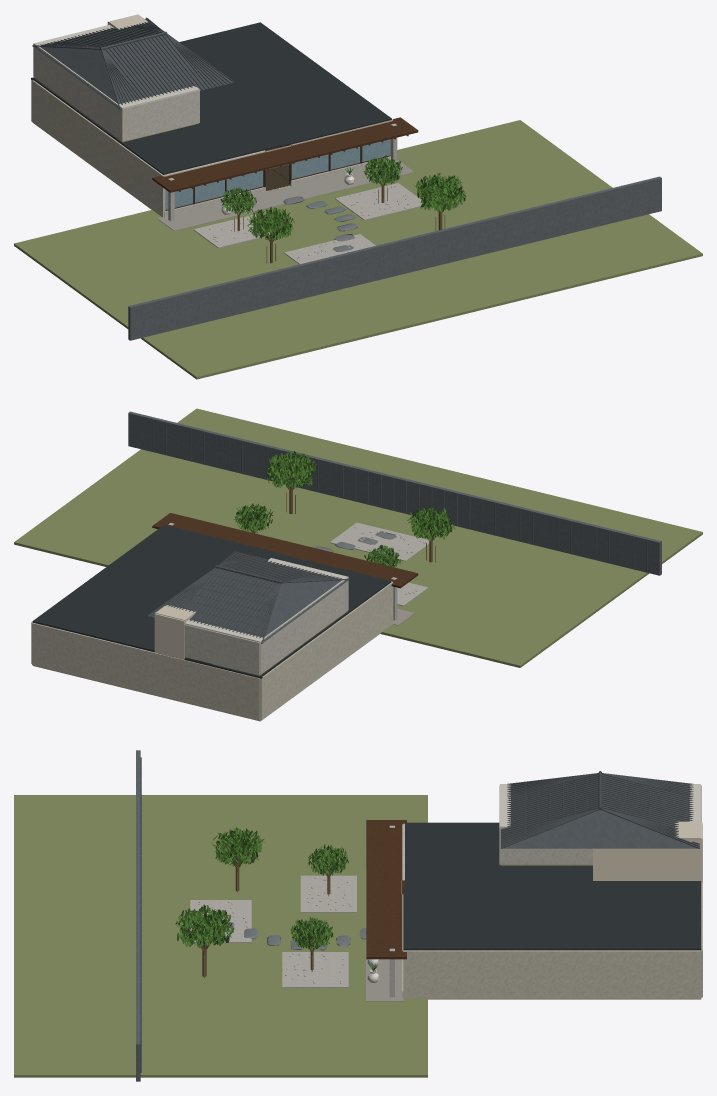
Rendered from yeongsanpo-literature.glb.
3 renders of one model, top to bottom at view 1: azimuth 30°, elevation 25°; view 2: azimuth 150°, elevation 25°; view 3: azimuth 270°, elevation 25°, orthographic. The views are drawn at different scales.
Parts seen in each view (by area): view 1: window_garden_ground, window_garden_boundary_wall, v79_batch_Museum_39382f_0_0, v79_batch_Y79_roof_24_0_0, v79_batch_Y79_plaster_0_0_0, v79_batch_Y79_plaster_26_0_0, v79_batch_Y79_wood_19_0_0, v79_batch_Y79_pavers_50_0_0, v79_layered_leaf_canopies, v79_batch_Y79_wood_18_0_0, window_garden_paved_apron, attic_white_ceiling (+3 smaller); view 2: window_garden_ground, window_garden_boundary_wall, v79_batch_Y79_plaster_0_0_0, v79_batch_Museum_39382f_0_0, v79_batch_Y79_roof_24_0_0, v79_batch_Y79_plaster_26_0_0, v79_layered_leaf_canopies, v79_batch_Y79_wood_19_0_0, v79_batch_Y79_pavers_50_0_0, v79_batch_Museum_575f50_0_0, v79_batch_Museum_ded7c0_0_0, attic_white_ceiling (+1 smaller); view 3: window_garden_ground, v79_batch_Museum_39382f_0_0, v79_batch_Y79_plaster_0_0_0, v79_batch_Y79_roof_24_0_0, v79_batch_Y79_pavers_50_0_0, v79_layered_leaf_canopies, v79_batch_Y79_wood_19_0_0, v79_batch_Museum_ded7c0_0_0, v79_batch_Y79_plaster_26_0_0, window_garden_boundary_wall, window_garden_paved_apron, attic_white_ceiling (+4 smaller).
Boxes of the visible parts, left/top/right/bottom form: window_garden_ground: left=14, top=120, right=702, bottom=379; window_garden_boundary_wall: left=128, top=176, right=661, bottom=340; v79_batch_Museum_39382f_0_0: left=31, top=22, right=391, bottom=174; v79_batch_Y79_roof_24_0_0: left=32, top=17, right=234, bottom=110; v79_batch_Y79_plaster_0_0_0: left=31, top=80, right=393, bottom=217; v79_batch_Y79_plaster_26_0_0: left=33, top=44, right=199, bottom=141; v79_batch_Y79_wood_19_0_0: left=152, top=117, right=418, bottom=210; v79_batch_Y79_pavers_50_0_0: left=193, top=183, right=425, bottom=264; v79_layered_leaf_canopies: left=220, top=155, right=466, bottom=240; v79_batch_Y79_wood_18_0_0: left=165, top=139, right=389, bottom=209; window_garden_paved_apron: left=157, top=160, right=414, bottom=230; attic_white_ceiling: left=33, top=25, right=199, bottom=109; window_garden_ground: left=14, top=408, right=702, bottom=667; window_garden_boundary_wall: left=128, top=411, right=661, bottom=575; v79_batch_Y79_plaster_0_0_0: left=31, top=582, right=393, bottom=720; v79_batch_Museum_39382f_0_0: left=32, top=525, right=391, bottom=678; v79_batch_Y79_roof_24_0_0: left=147, top=551, right=349, bottom=643; v79_batch_Y79_plaster_26_0_0: left=184, top=578, right=348, bottom=675; v79_layered_leaf_canopies: left=234, top=451, right=455, bottom=567; v79_batch_Y79_wood_19_0_0: left=152, top=513, right=418, bottom=588; v79_batch_Y79_pavers_50_0_0: left=329, top=522, right=429, bottom=606; v79_batch_Museum_575f50_0_0: left=140, top=416, right=647, bottom=571; v79_batch_Museum_ded7c0_0_0: left=154, top=613, right=185, bottom=659; attic_white_ceiling: left=185, top=558, right=348, bottom=643; window_garden_ground: left=14, top=795, right=427, bottom=1077; v79_batch_Museum_39382f_0_0: left=403, top=822, right=701, bottom=950; v79_batch_Y79_plaster_0_0_0: left=401, top=823, right=702, bottom=998; v79_batch_Y79_roof_24_0_0: left=500, top=771, right=699, bottom=848; v79_batch_Y79_pavers_50_0_0: left=190, top=875, right=356, bottom=987; v79_layered_leaf_canopies: left=175, top=827, right=348, bottom=951; v79_batch_Y79_wood_19_0_0: left=366, top=820, right=406, bottom=959; v79_batch_Museum_ded7c0_0_0: left=593, top=822, right=702, bottom=882; v79_batch_Y79_plaster_26_0_0: left=499, top=785, right=701, bottom=864; window_garden_boundary_wall: left=136, top=750, right=140, bottom=1081; window_garden_paved_apron: left=366, top=868, right=403, bottom=1001; attic_white_ceiling: left=500, top=784, right=700, bottom=829.
Bounding box in the file's own units: 42 × 7.76 × 41.6.
149 materials, 51 textured.
